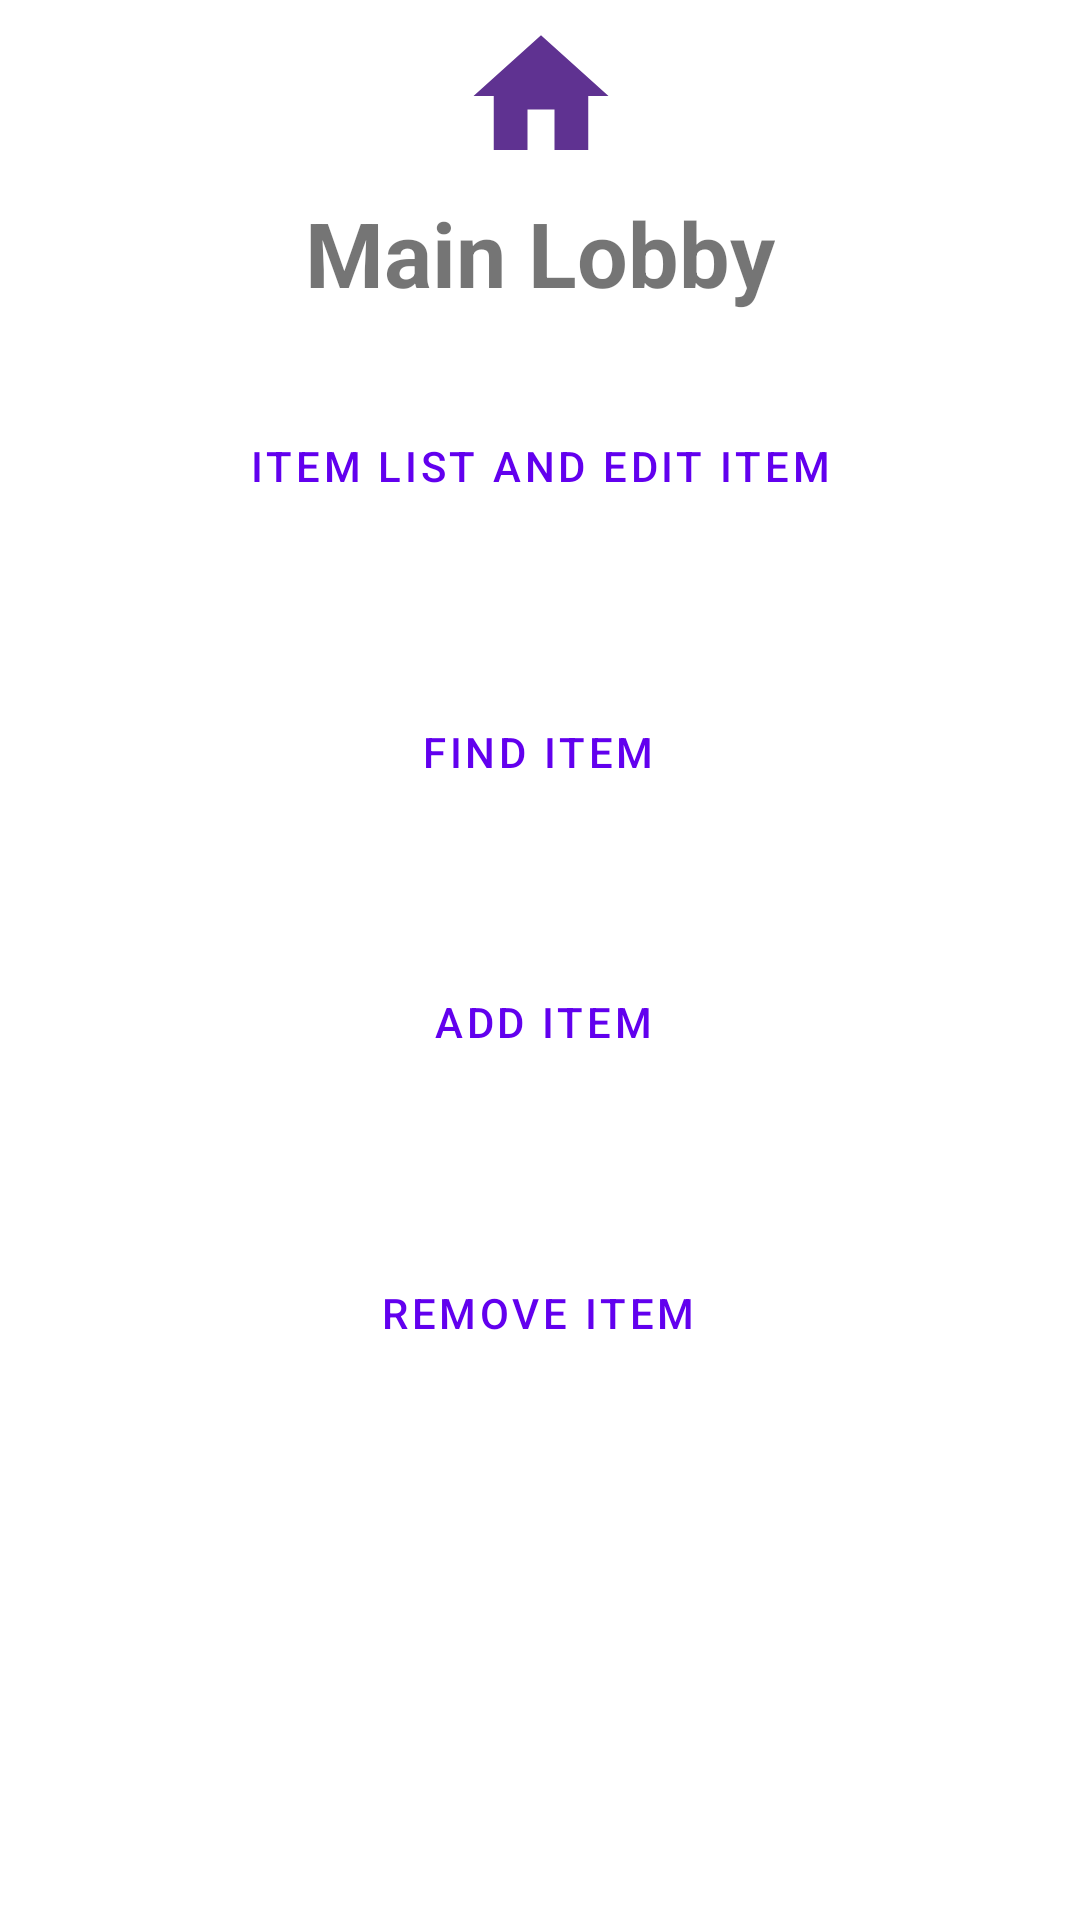

Screen size 1080px×1920px. Icon name, then its box in pixels as (x1, y1, x2, y2):
home: (474, 35, 608, 150)
